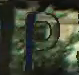Parking: (11, 6, 64, 73)
